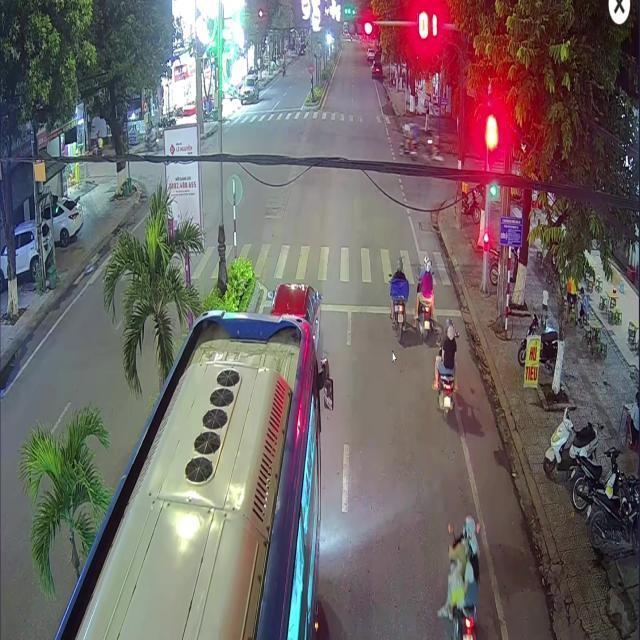car: (55, 310, 334, 638), (270, 282, 321, 350)
motobike: (437, 514, 478, 638), (432, 353, 454, 414), (414, 291, 432, 338), (389, 295, 405, 343)
red_light: (345, 17, 372, 35), (486, 133, 495, 167), (483, 232, 487, 251)
stop_line: (263, 299, 463, 316)
